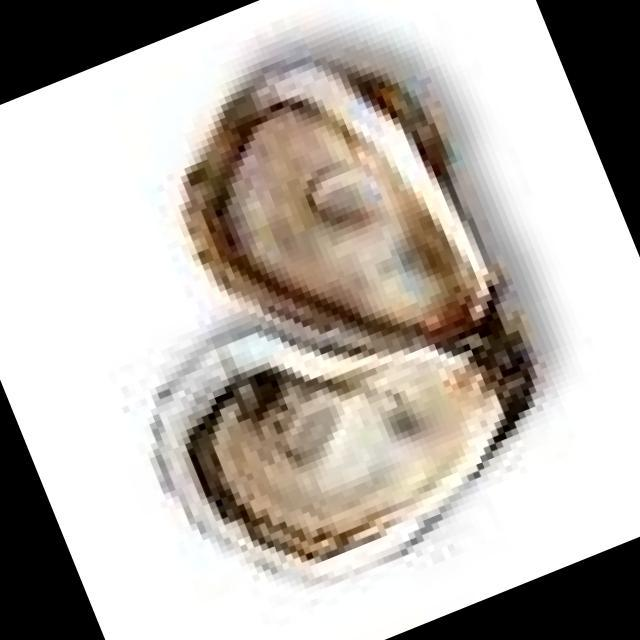Oyster-Open: (150, 318, 532, 579), (185, 59, 504, 350)
